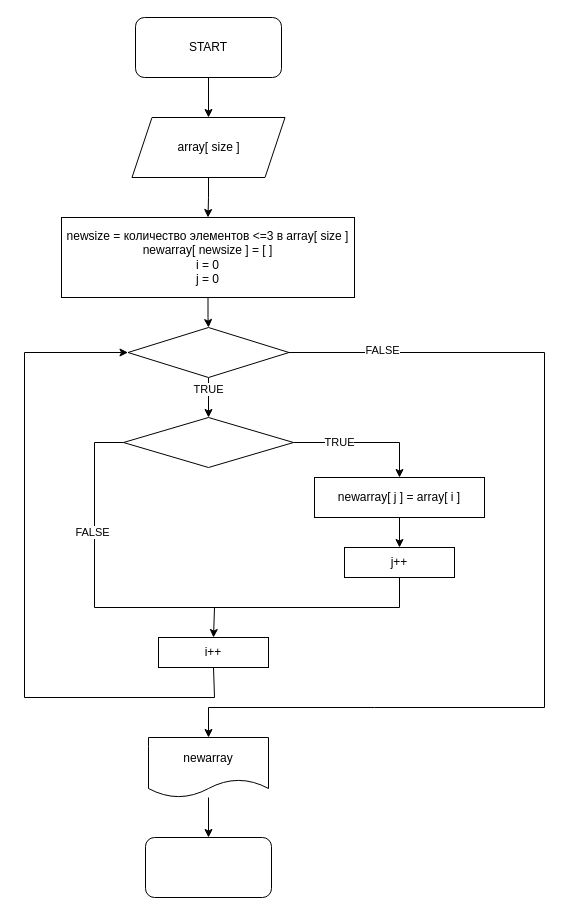
The diagram is 570 pixels wide and 915 high, and some of its shapes have lost their labels. Each missing label, with the centre of its shape:
array[ i ].lengh <= 3: the point at 208,442
FINISH: the point at 208,867
i<size: the point at 208,352
